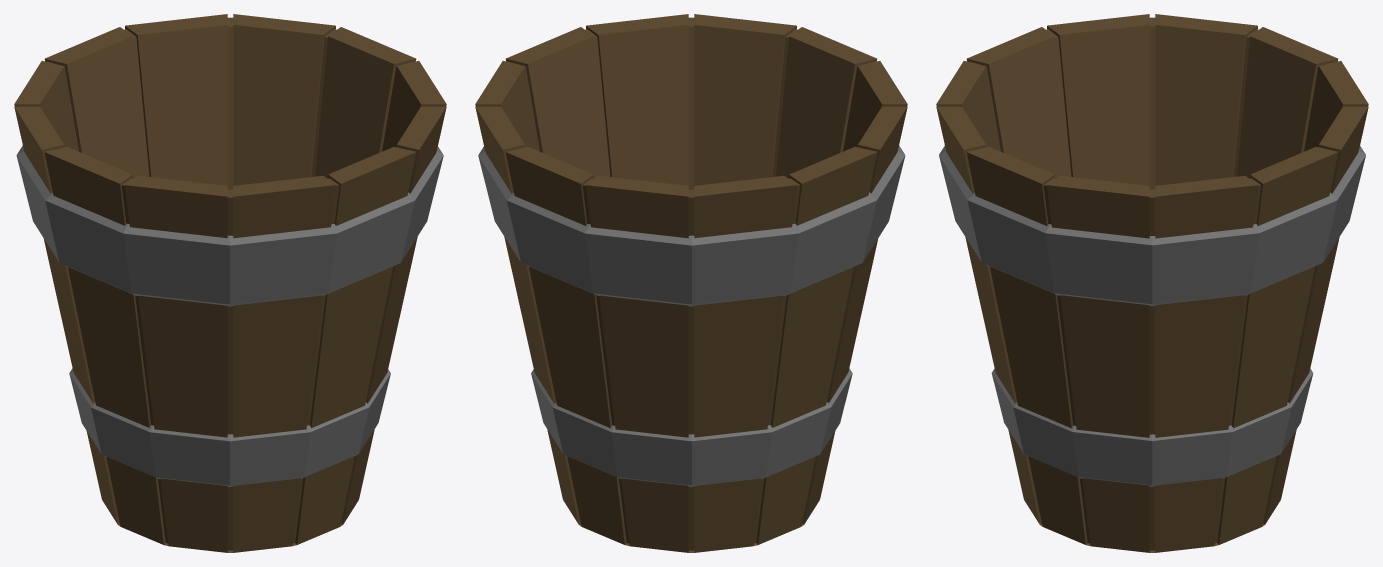
Rendered from WoodenBucket_RJ_16-11.fbx.
3 renders of one model, left to right at view 1: azimuth 30°, elevation 25°; view 2: azimuth 150°, elevation 25°; view 3: azimuth 270°, elevation 25°, orthographic.
Parts seen in each view (by area): view 1: Wooden_Bucket; view 2: Wooden_Bucket; view 3: Wooden_Bucket.
Part boxes in pixels (box(x1,y1,x2,y2)): Wooden_Bucket: box(14, 14, 446, 552); Wooden_Bucket: box(475, 14, 907, 552); Wooden_Bucket: box(936, 14, 1368, 552).
Size of the model in its own units: 199 by 200 by 199.
